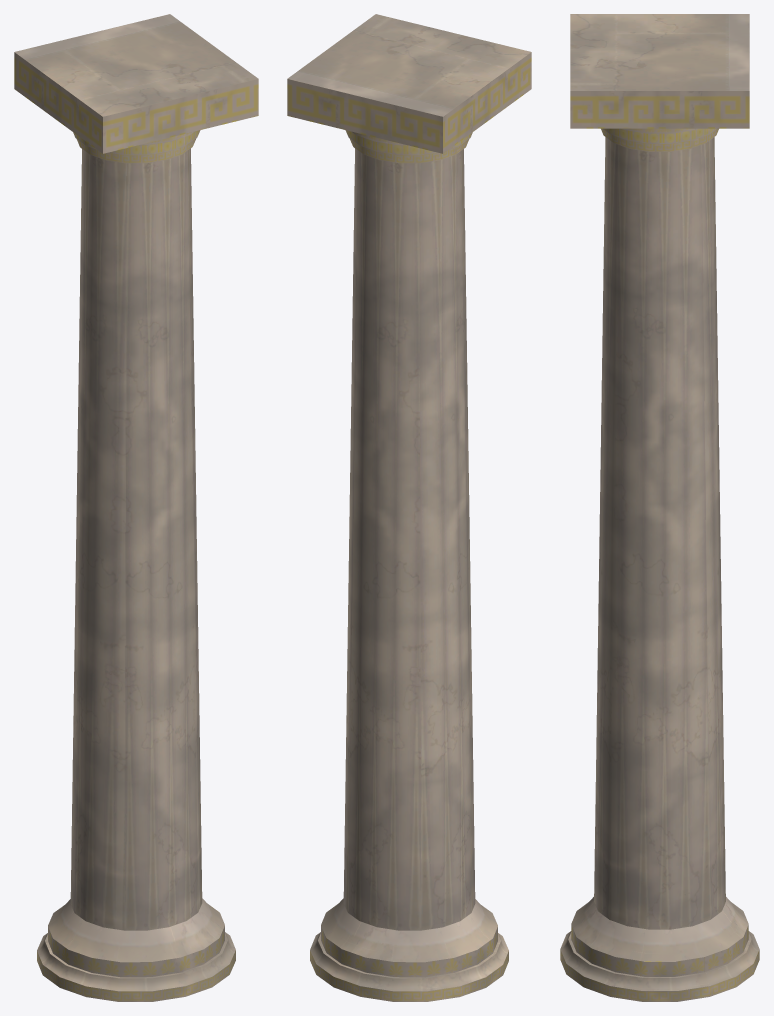
Rendered from SM_temple_column.gltf.
3 renders of one model, left to right at view 1: azimuth 30°, elevation 25°; view 2: azimuth 150°, elevation 25°; view 3: azimuth 270°, elevation 25°, orthographic.
Parts seen in each view (by area): view 1: SM_temple_column; view 2: SM_temple_column; view 3: SM_temple_column.
Part boxes in pixels (x1=…): SM_temple_column: x1=14, y1=14, x2=258, y2=1001; SM_temple_column: x1=287, y1=14, x2=531, y2=1001; SM_temple_column: x1=560, y1=14, x2=759, y2=1001.
Bounding box in the file's own units: 2.6 × 13.04 × 2.6.
1 material, 1 textured.
